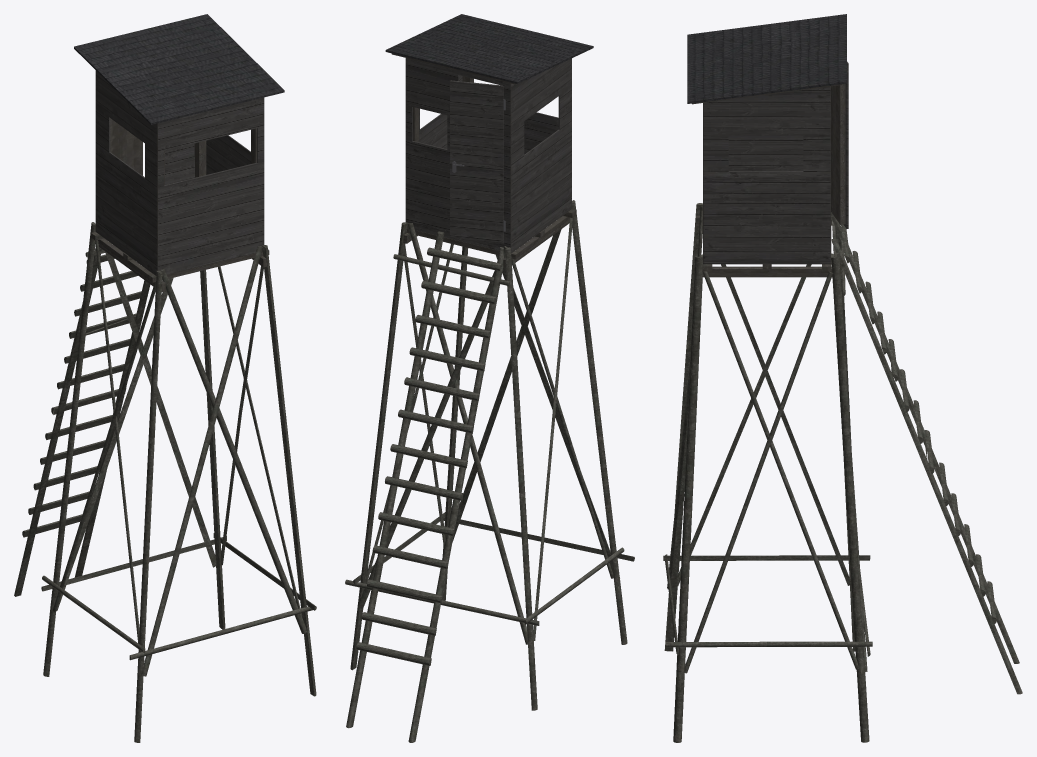
Rendered from hunting-stand.zfix-v14.lod0.glb.
3 views of the same model, side by side, from view 1: azimuth 30°, elevation 25°; view 2: azimuth 150°, elevation 25°; view 3: azimuth 270°, elevation 25° (orthographic). The views are drawn at different scales.
Visible parts, largest first — view 1: fertig_Material.002_0; view 2: fertig_Material.002_0; view 3: fertig_Material.002_0.
Boxes of the visible parts, x1,y1,x2,y2 form: fertig_Material.002_0: [14, 14, 316, 742]; fertig_Material.002_0: [345, 14, 634, 742]; fertig_Material.002_0: [663, 14, 1022, 742].
Bounding box in the file's own units: 2.54 × 7.83 × 3.94.
1 material, 1 textured.
